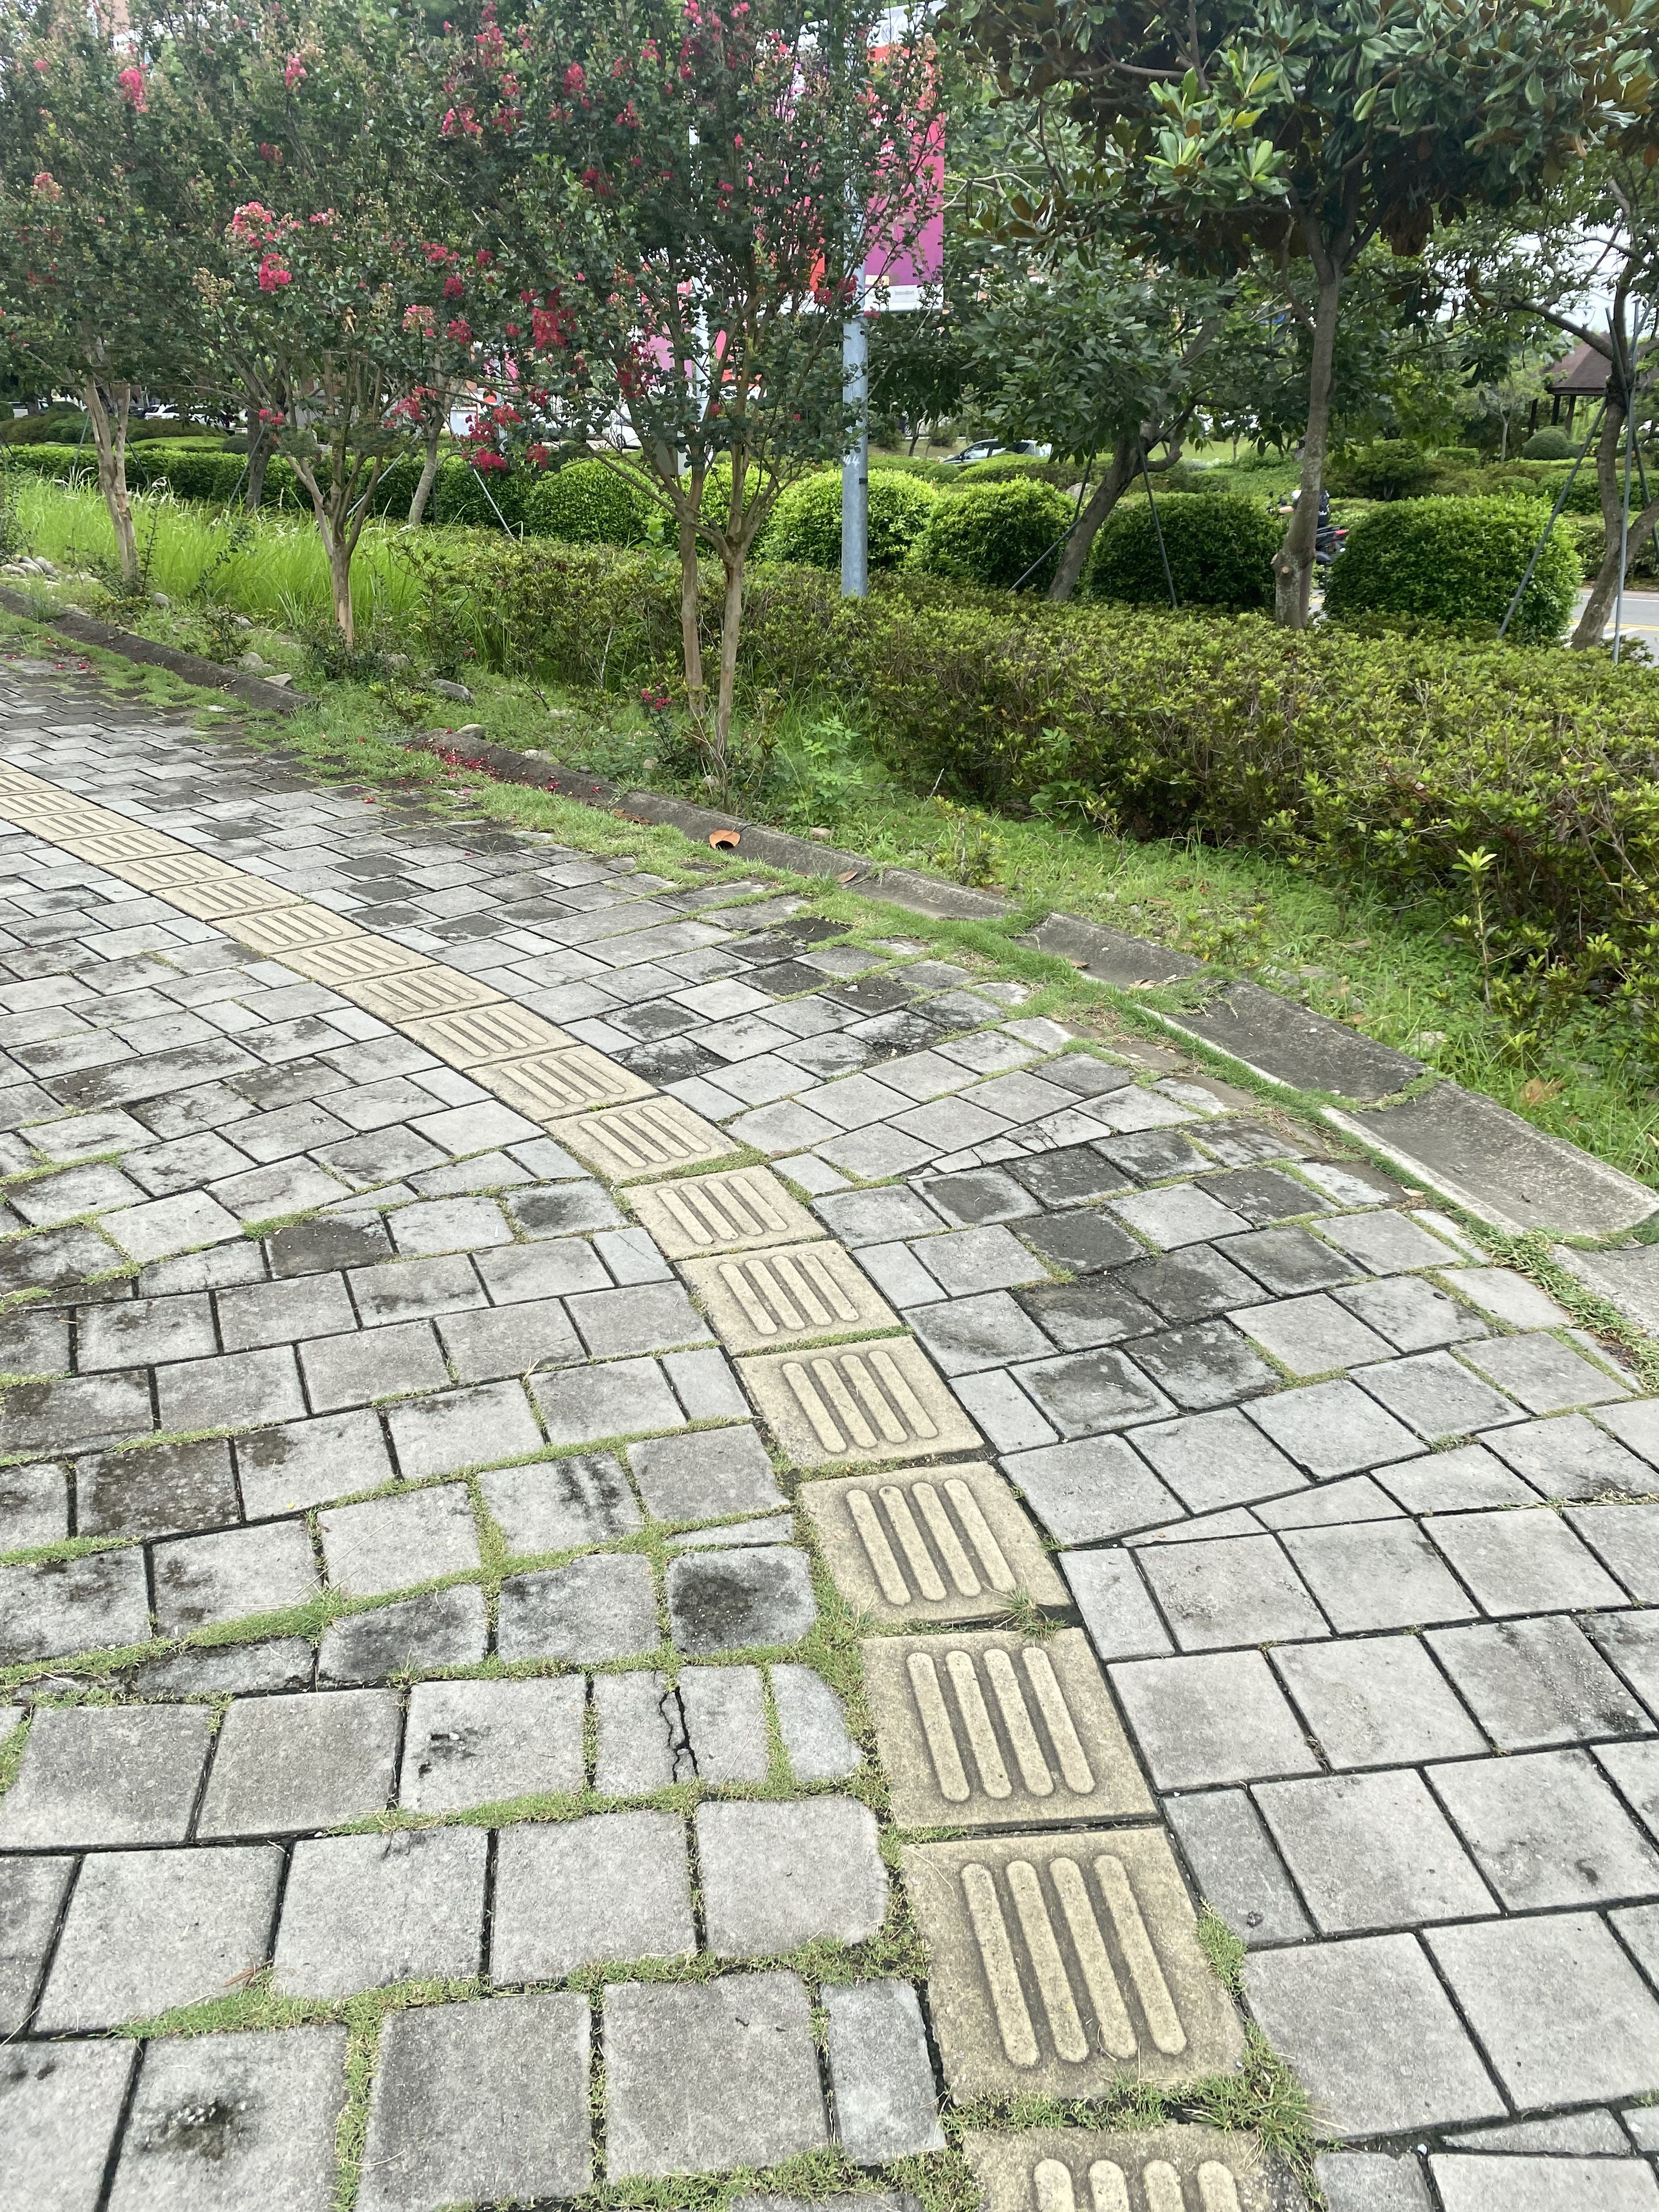sidewalk: (7, 554, 1659, 2212)
